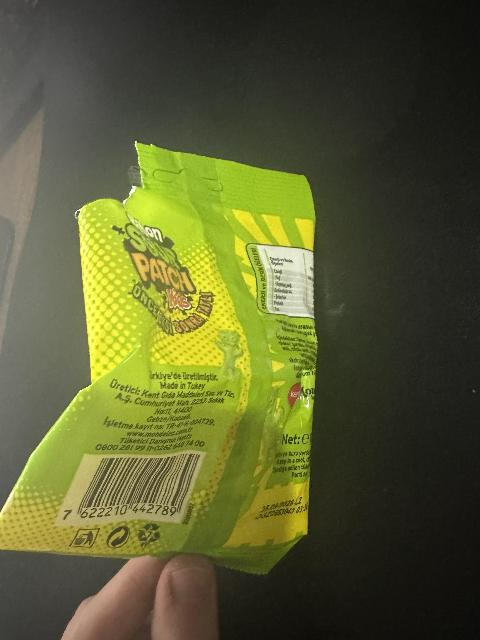Plastik: (2, 135, 319, 576)
